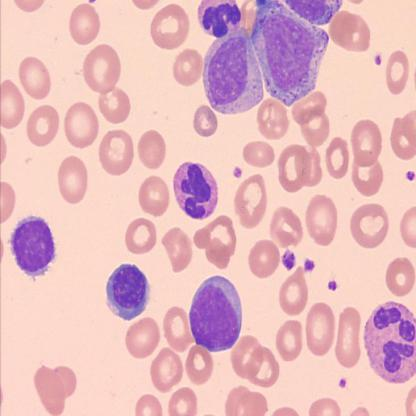NRC: (189, 273, 244, 352), (7, 212, 59, 280), (107, 261, 152, 320)
